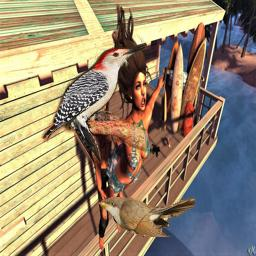Cuckoo: (97, 197, 195, 237)
Woodpecker: (41, 44, 147, 165)
